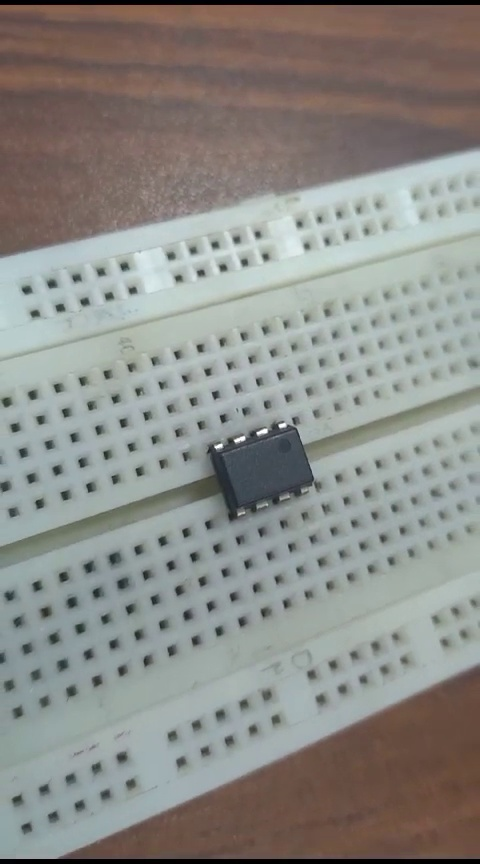IC: (188, 419, 328, 520)
